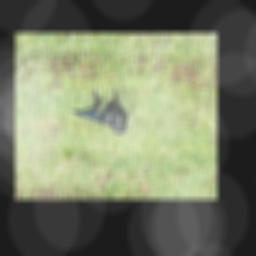Crow: (68, 86, 128, 134)
